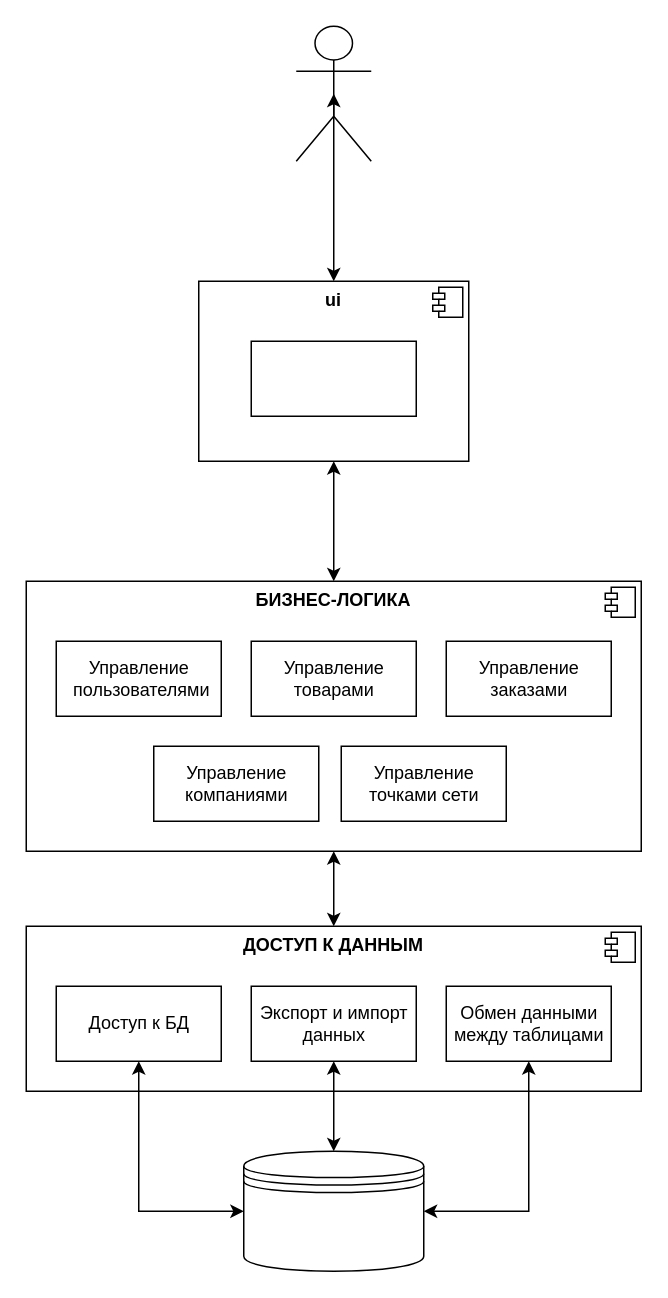
Image size: 668x1298. Some labels were removed from this diagram. The centre of each missing label's shape, as x and y in pixels:
QT: the point at 333,378
БД: the point at 333,1210
ПОЛЬЗОВАТЕЛЬ: the point at 333,93
